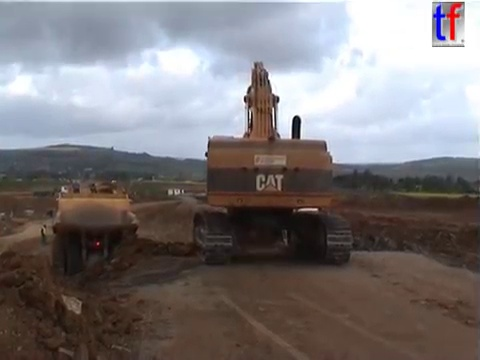excavator: (189, 58, 356, 268)
truck: (46, 188, 141, 275), (31, 184, 70, 198), (88, 181, 113, 194)
worker: (39, 222, 49, 246)
